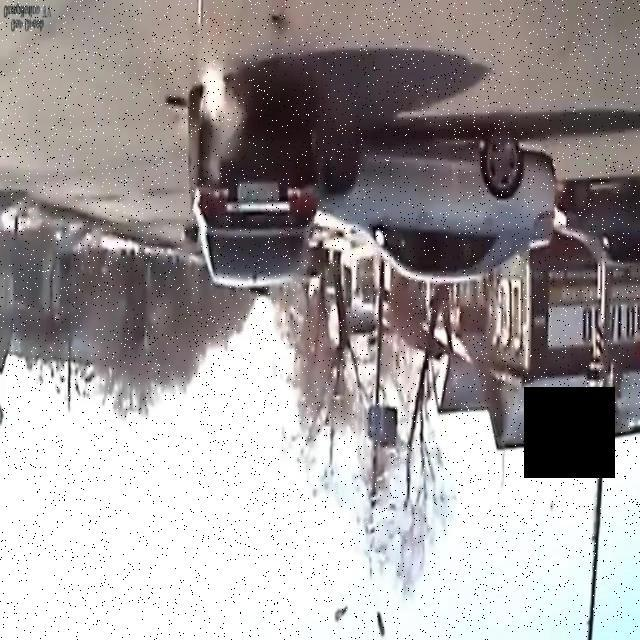moderate: (179, 68, 563, 296)
